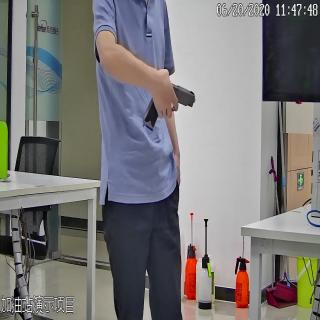gun: (142, 67, 195, 131)
